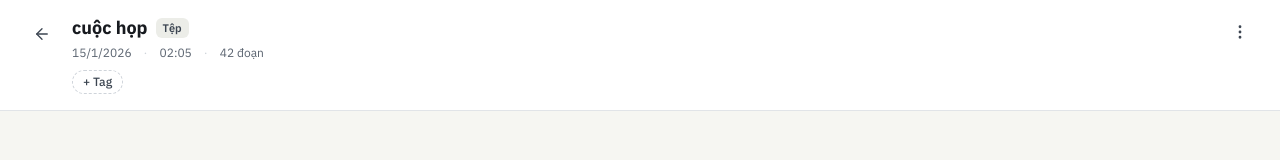
Test: SessionHeader › the ⋯ menu exposes Đổi tên and Xoá
Click the button named "Thao tác khác" at (1240, 32), box [1224,16,1256,48]
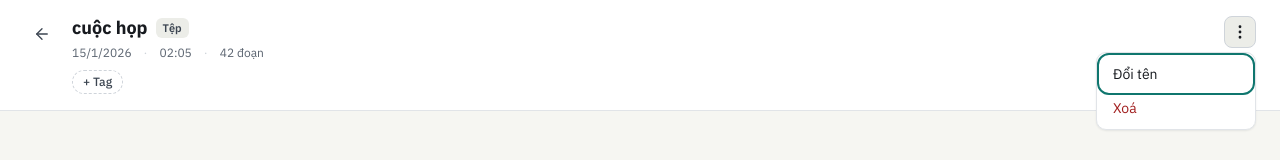
Now the menu item "Đổi tên" is shown, box [1101,57,1251,91]
Now the menu item "Xoá" is shown, box [1101,91,1251,125]
